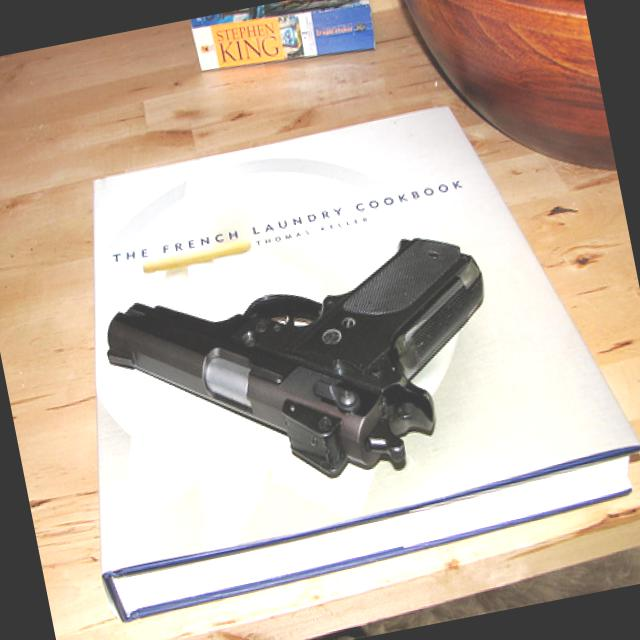handgun: (90, 221, 512, 517)
